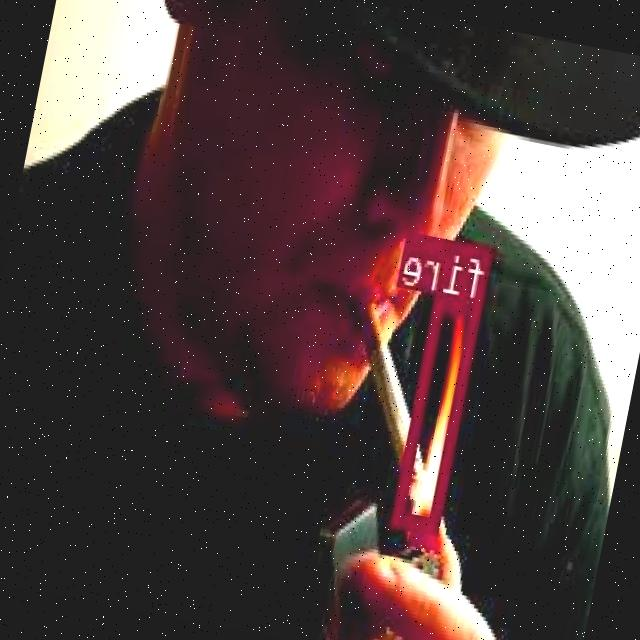fire: (394, 294, 486, 532)
